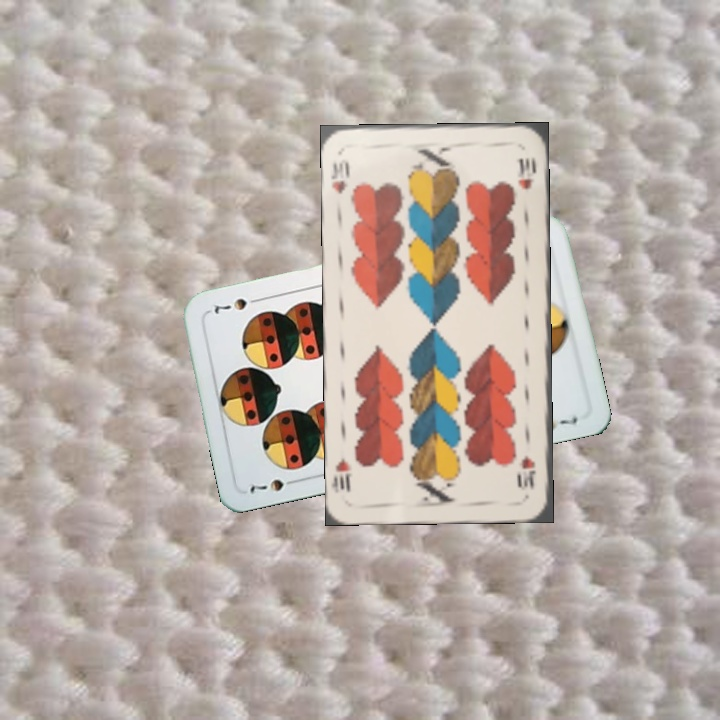H10: (328, 155, 353, 196), (517, 451, 538, 492)
S7: (245, 475, 302, 496)
